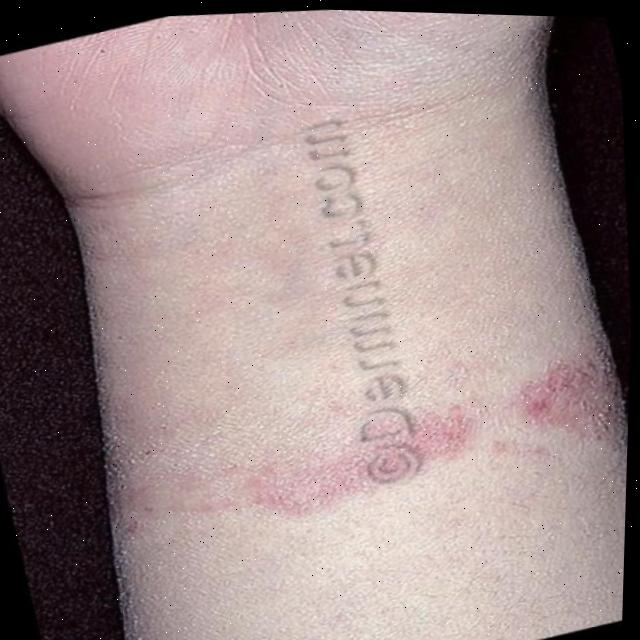Eczema: (149, 104, 637, 550)
